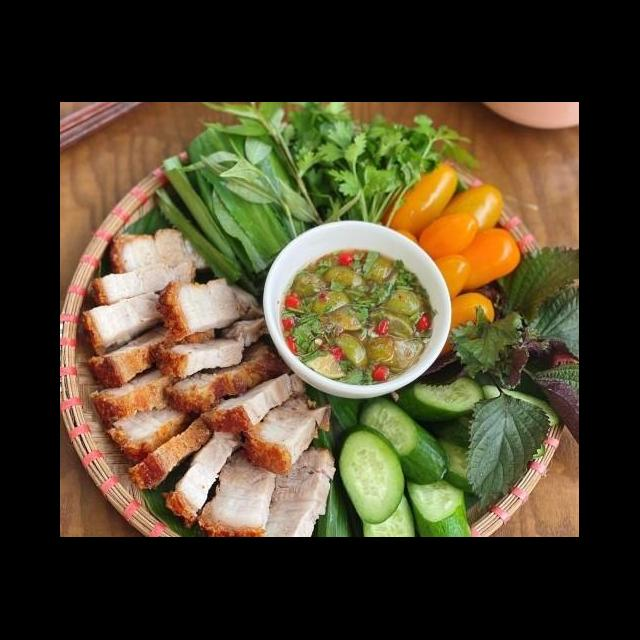thit heo quay: (156, 342, 290, 420), (86, 314, 220, 392), (160, 426, 250, 532), (197, 436, 286, 538), (248, 442, 338, 538), (82, 280, 192, 358), (238, 394, 336, 481), (122, 410, 220, 494), (152, 314, 272, 382), (154, 276, 270, 344), (198, 370, 312, 438), (88, 253, 202, 316), (86, 366, 194, 432), (106, 222, 216, 276), (104, 400, 194, 464)
